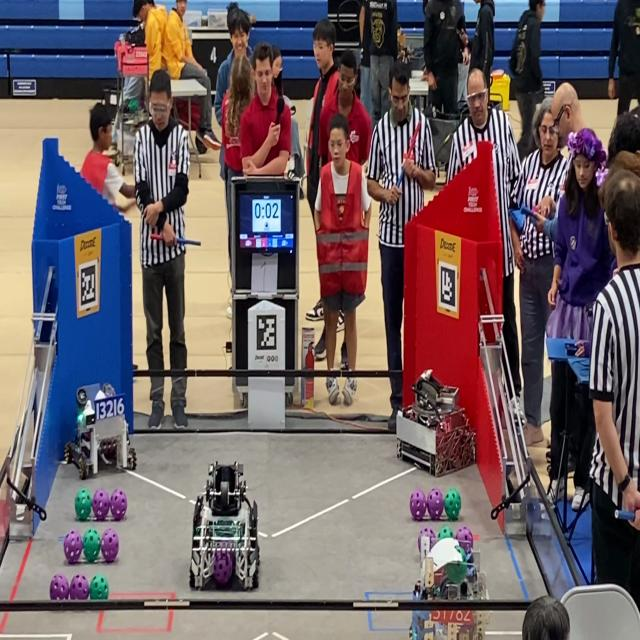artifact_green: (445, 547, 467, 584), (83, 529, 100, 562), (444, 488, 461, 521), (75, 489, 91, 521), (90, 574, 109, 600), (438, 526, 454, 540), (456, 546, 466, 562), (129, 99, 139, 113)
artifact_purple: (213, 549, 234, 585), (101, 528, 119, 562), (64, 530, 82, 564), (427, 489, 444, 520), (92, 489, 109, 520), (110, 489, 127, 520), (410, 489, 426, 520), (50, 575, 69, 600), (70, 575, 89, 600), (456, 526, 473, 553), (418, 527, 436, 552)
